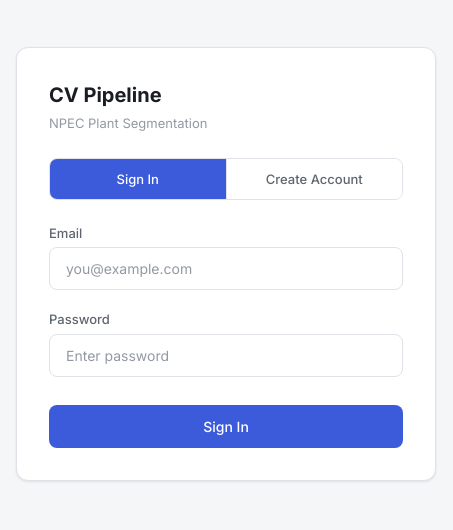
Test case: LoginPage › shows validation error when fields are empty
The width and height of the screenshot is (453, 530).
Click the button with id "btn-submit" at (226, 426), box [49, 404, 403, 448]
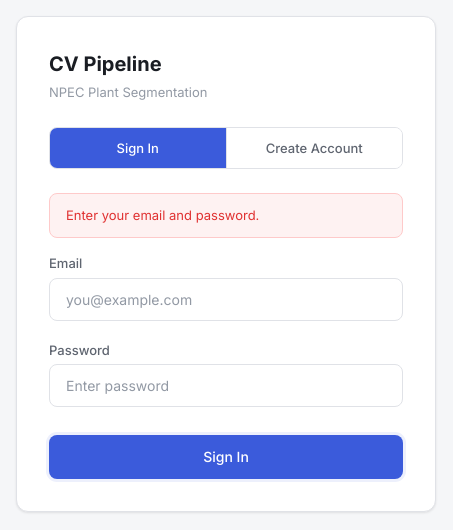
Expected: the text "Enter your email and password." is shown, [49, 193, 403, 238]
